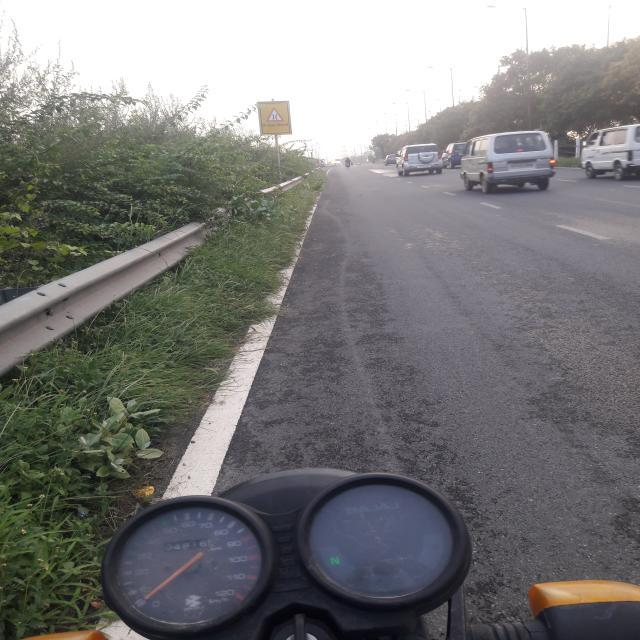narrow bridge ahead: (265, 107, 285, 122)
